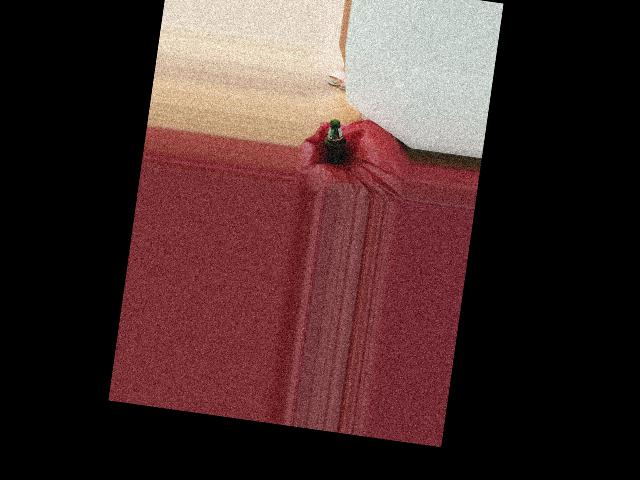beer: (322, 118, 351, 165)
